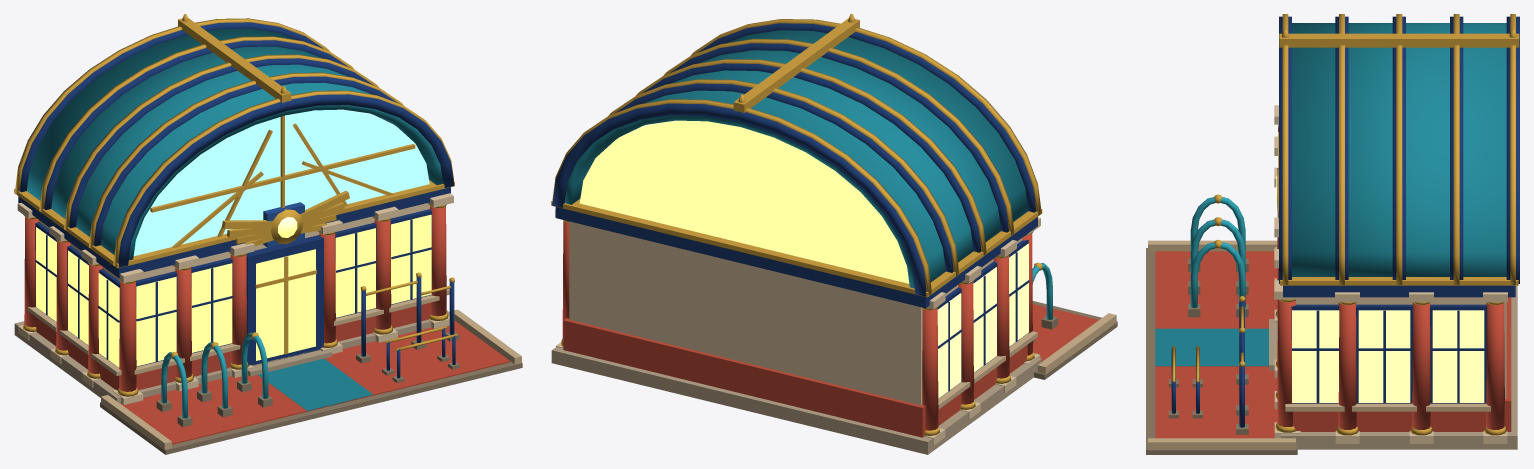
The model's file is venue_soul_gym.glb.
3 renders of one model, left to right at view 1: azimuth 30°, elevation 25°; view 2: azimuth 150°, elevation 25°; view 3: azimuth 270°, elevation 25°, orthographic. The views are drawn at different scales.
Visible parts, largest first — view 1: venue_soul_gym; view 2: venue_soul_gym; view 3: venue_soul_gym.
Part boxes in pixels (<box>): venue_soul_gym: <box>14,14,522,454</box>; venue_soul_gym: <box>551,14,1117,454</box>; venue_soul_gym: <box>1146,14,1519,454</box>.
Size of the model in its own units: 12.9 by 9.69 by 10.11.
